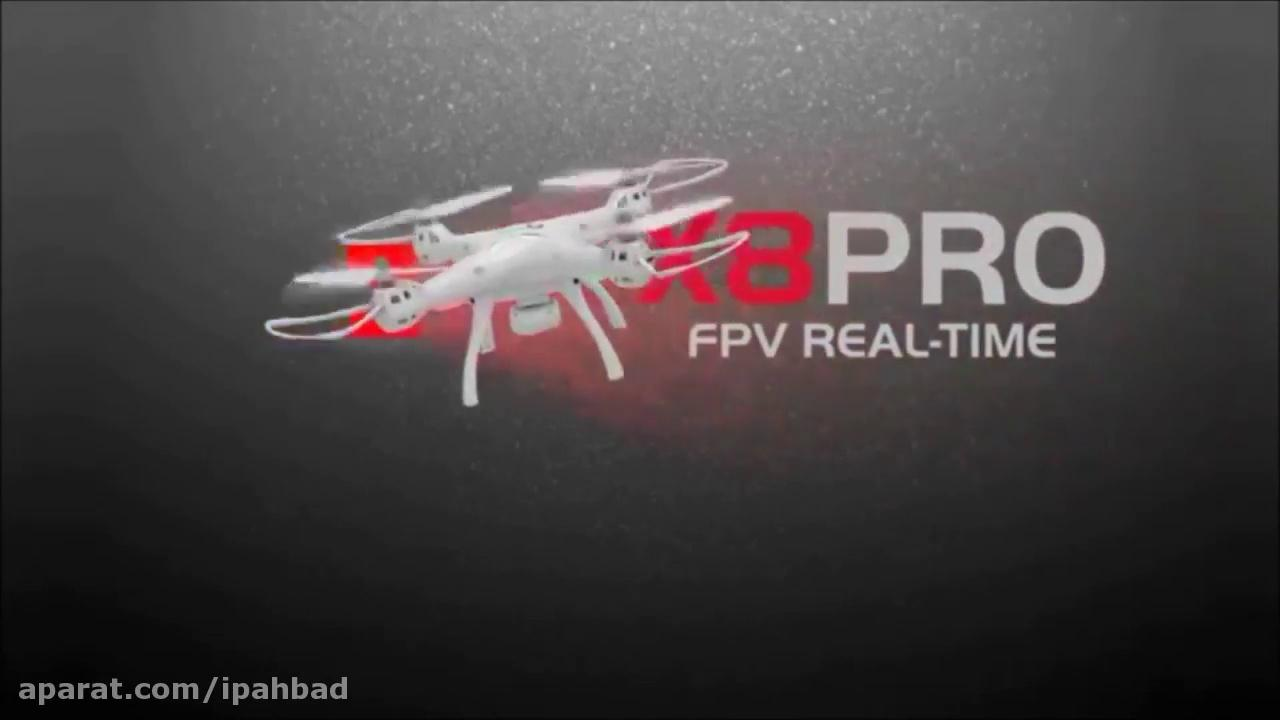drone: (262, 155, 751, 410)
